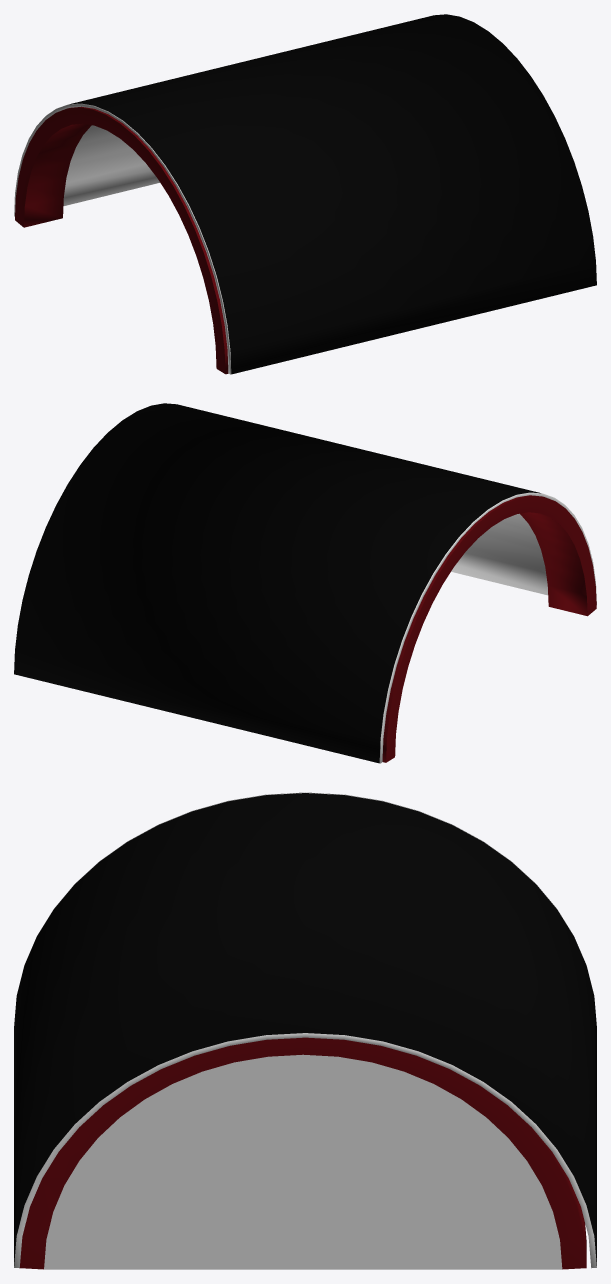
The model's file is KBH-H-Roof.fbx.
3 renders of one model, top to bottom at view 1: azimuth 30°, elevation 25°; view 2: azimuth 150°, elevation 25°; view 3: azimuth 270°, elevation 25°, orthographic. The views are drawn at different scales.
Parts seen in each view (by area): view 1: DomeRoof, Beam; view 2: DomeRoof, Beam; view 3: DomeRoof, Beam 2.
Boxes of the visible parts, x1,y1,x2,y2 form: DomeRoof: (14,14,596,374); Beam: (15,106,228,374); DomeRoof: (14,403,596,763); Beam: (382,495,596,762); DomeRoof: (14,792,596,1268); Beam 2: (19,1037,586,1269).
Size of the model in its own units: 1009 by 462 by 1026.
